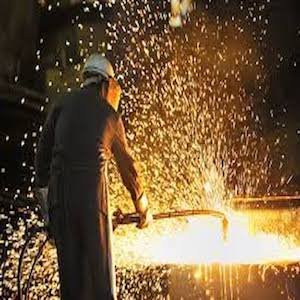heat: (113, 182, 293, 263)
safety: (80, 53, 121, 80)
